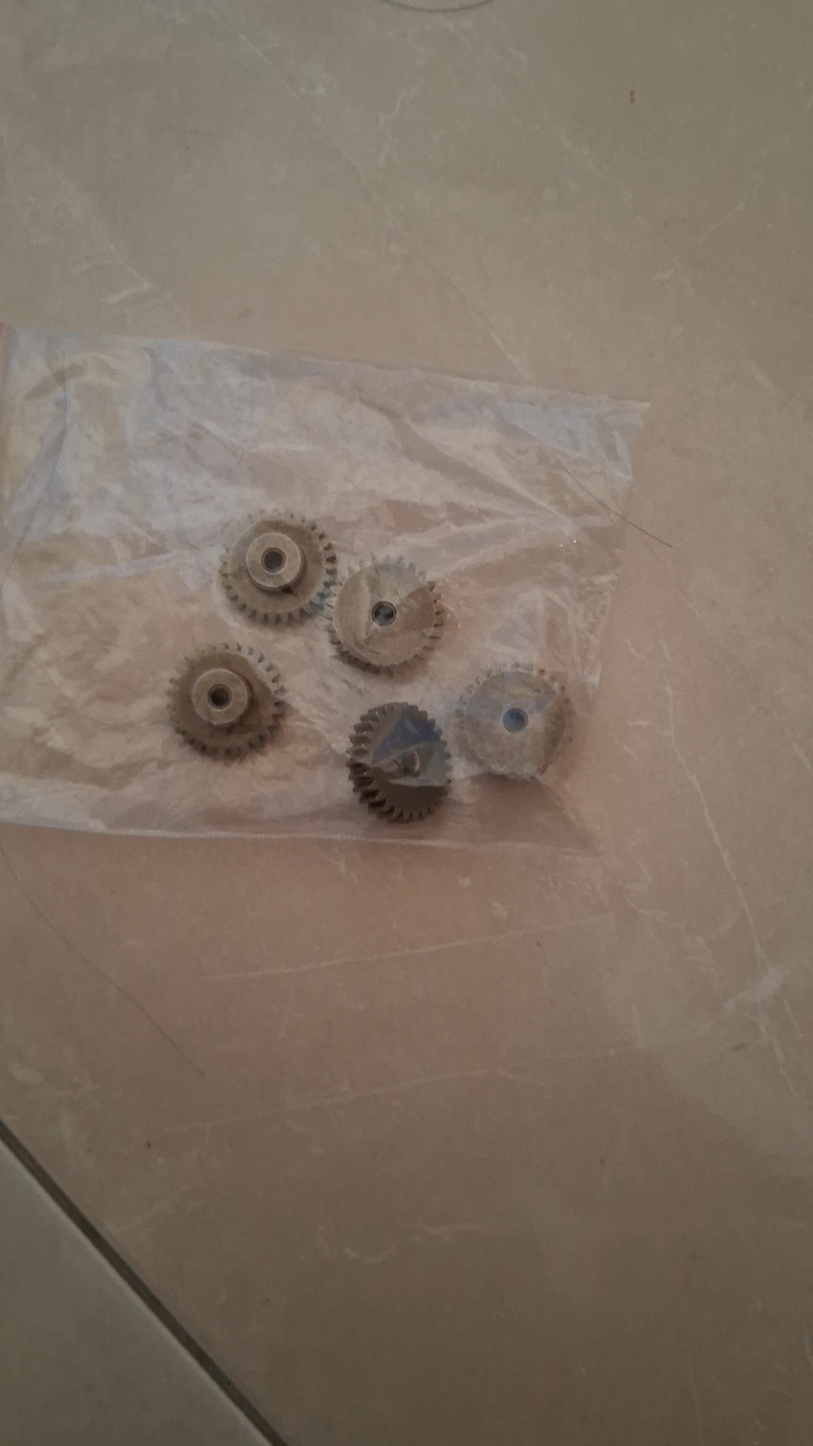spur gear: (330, 559, 444, 672), (171, 642, 282, 758), (220, 513, 336, 623), (461, 668, 570, 779), (348, 703, 449, 821)
